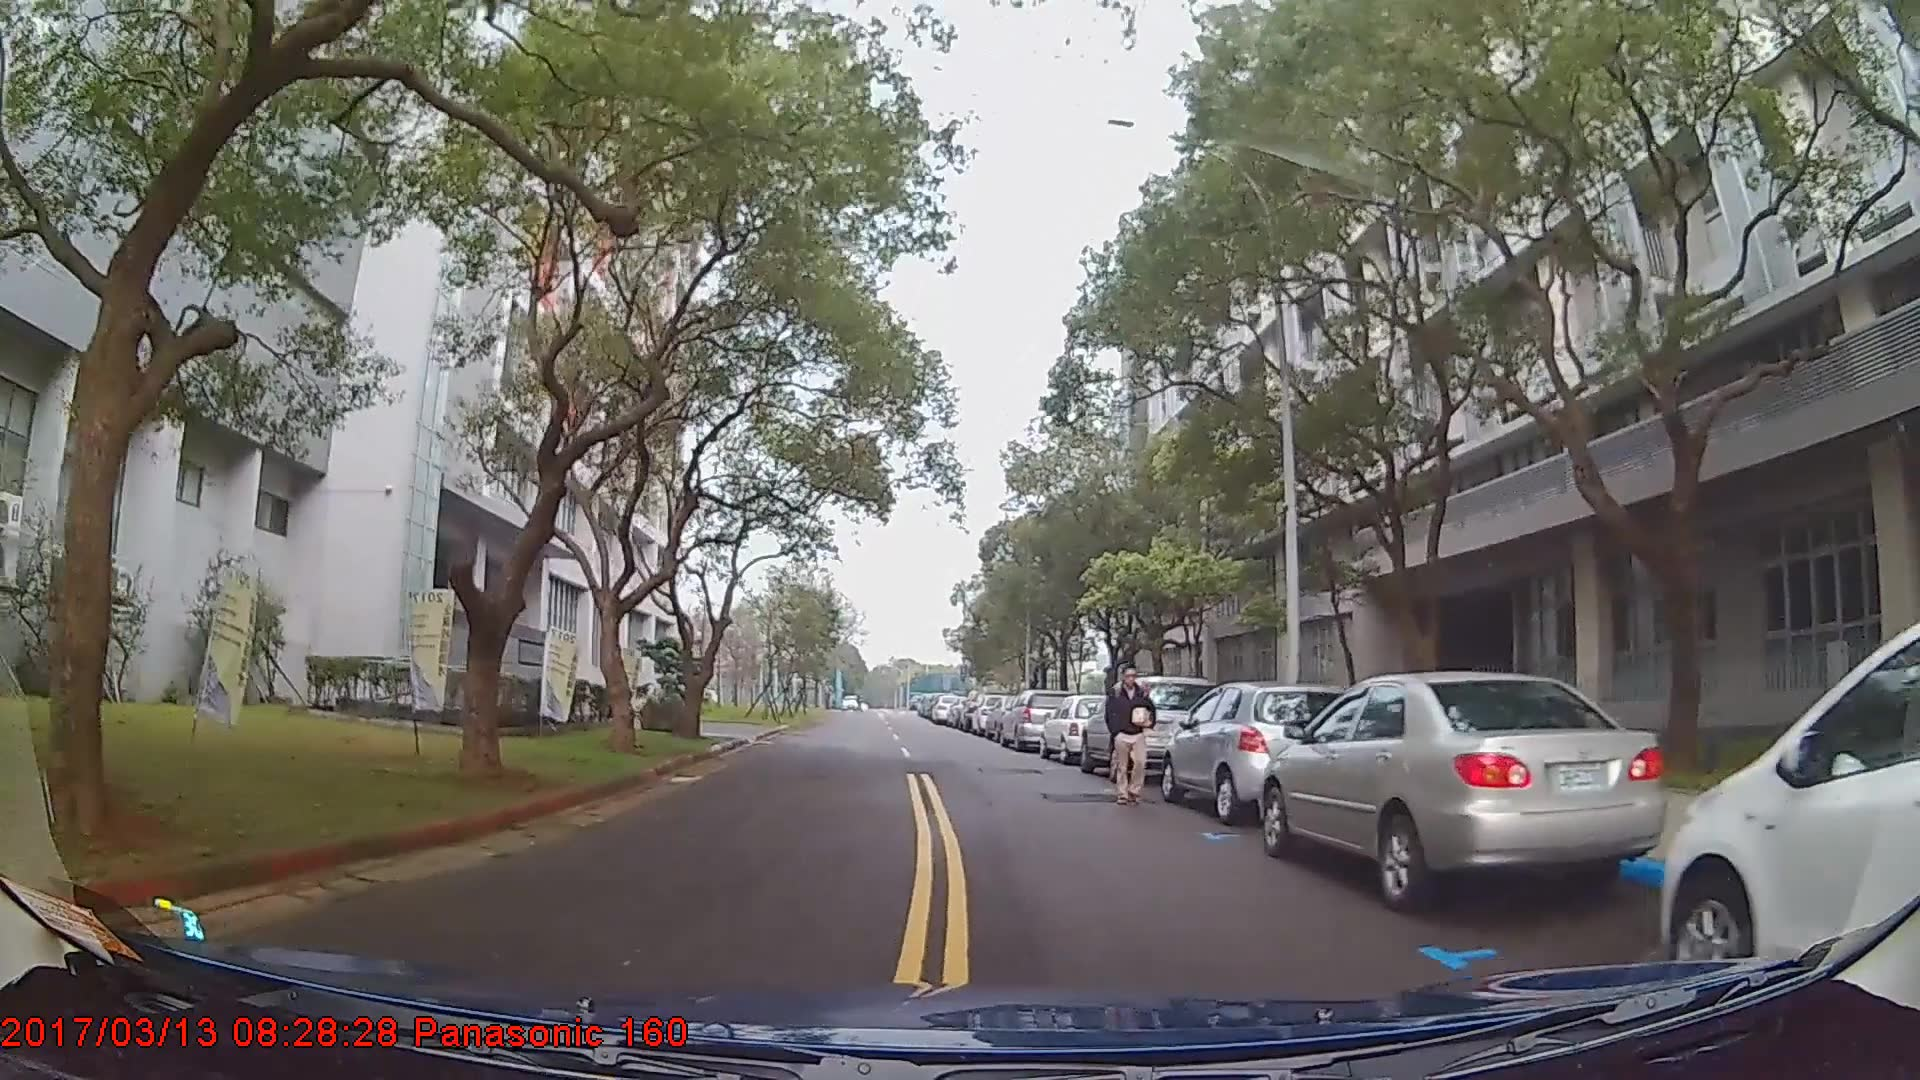pedestrian: (1107, 668, 1161, 805)
vehicle: (1260, 667, 1672, 917), (1659, 625, 1920, 998), (1160, 678, 1352, 823), (1080, 673, 1222, 782), (1037, 691, 1117, 762), (997, 687, 1076, 749)
